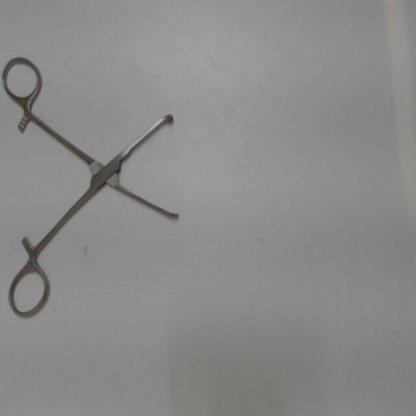Allis Tissue Forceps: (0, 49, 190, 322)
